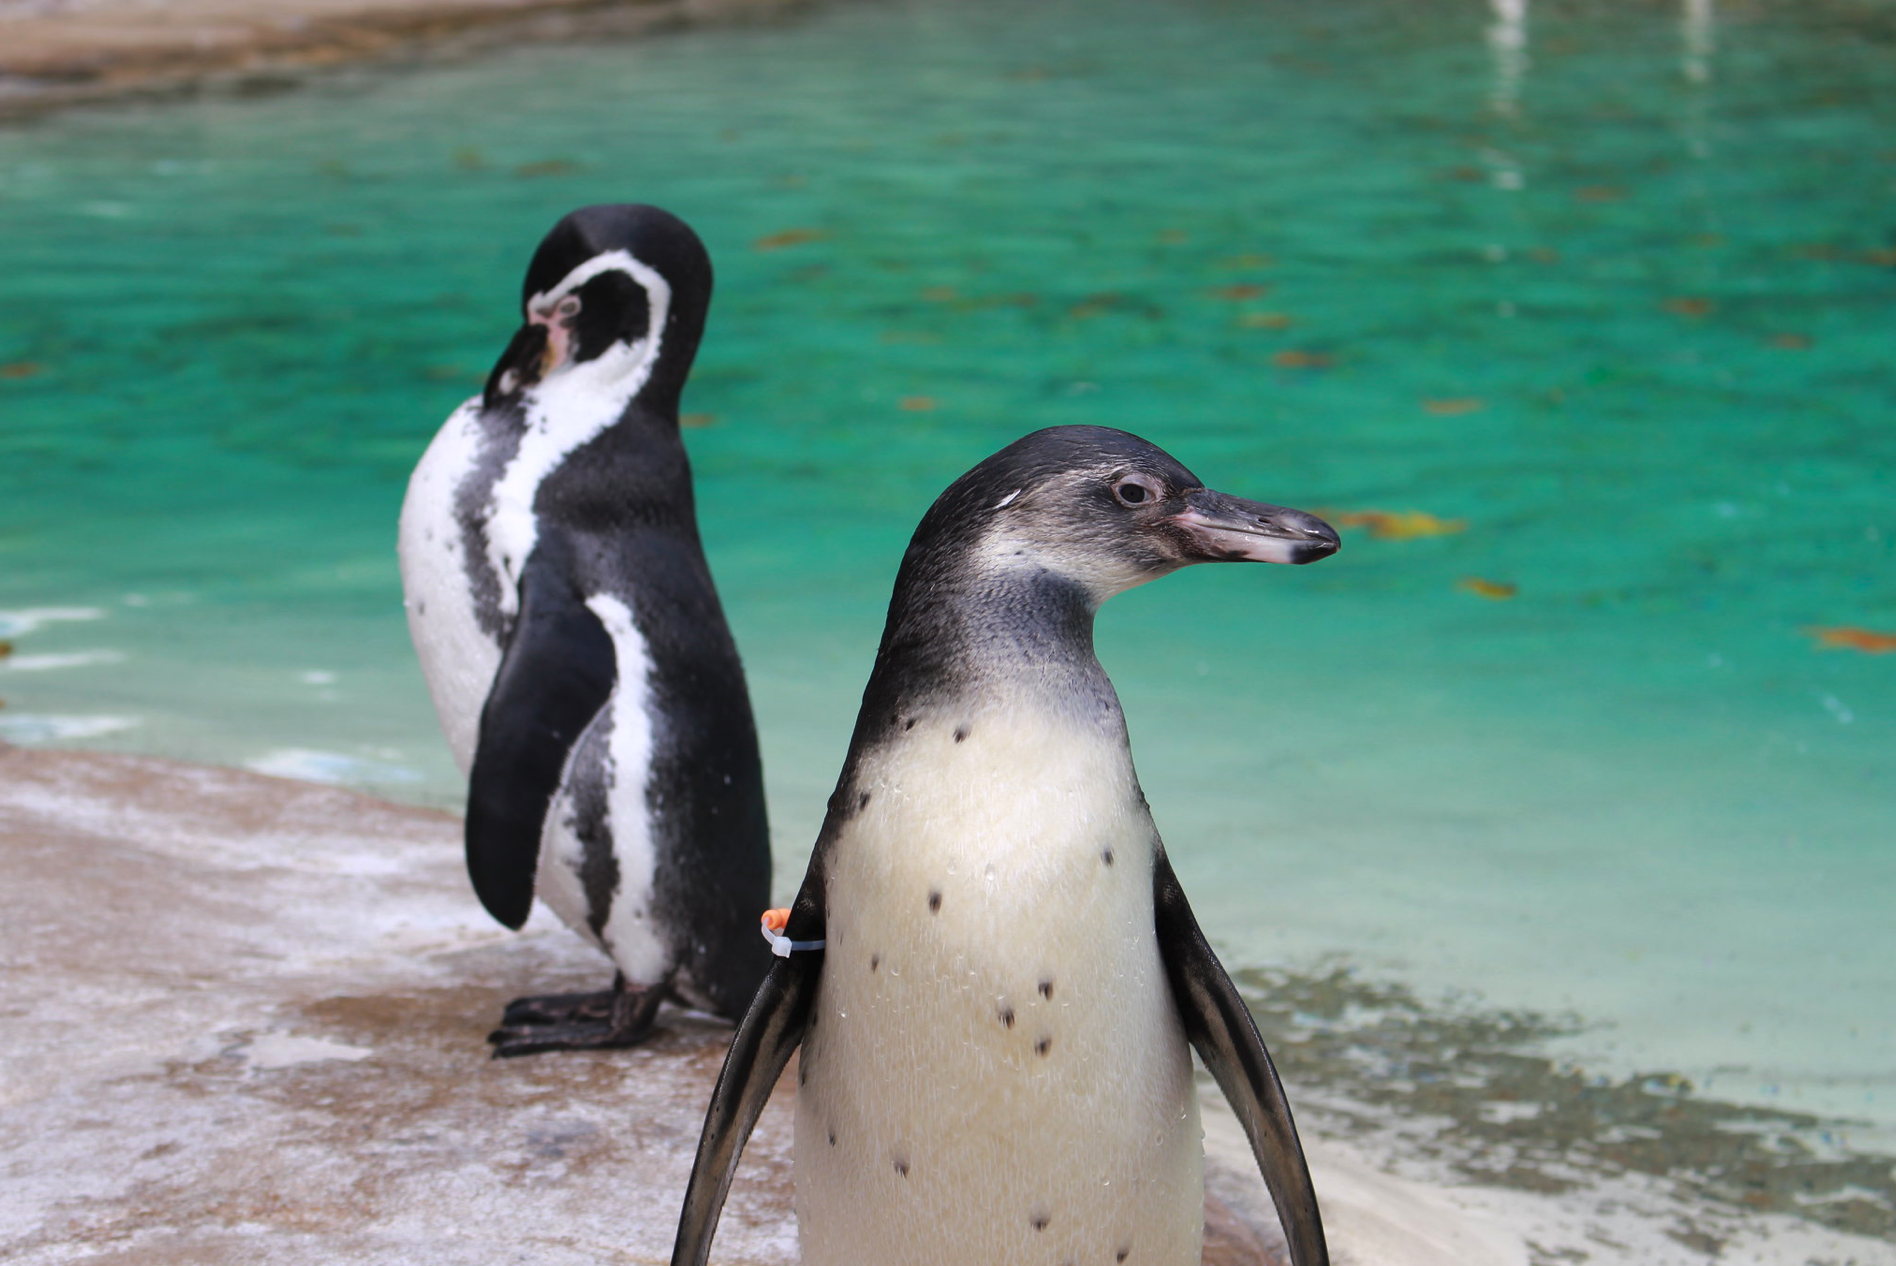penguin: (675, 418, 1337, 1266), (394, 194, 812, 1070)
